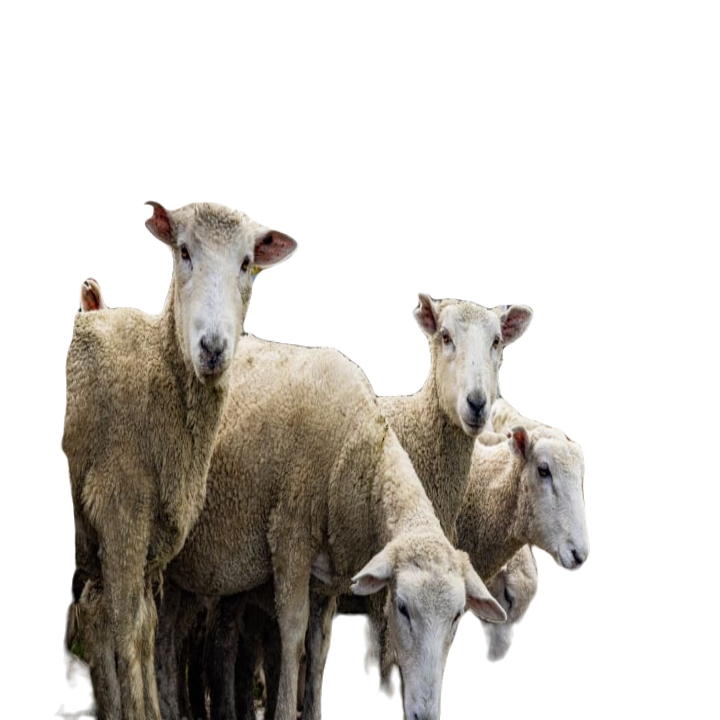Sheep: (49, 193, 305, 719), (402, 280, 538, 524)
